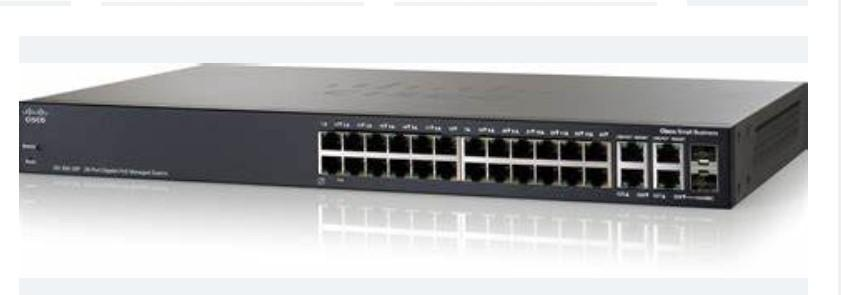NetworkSwitch: (18, 64, 807, 209)
